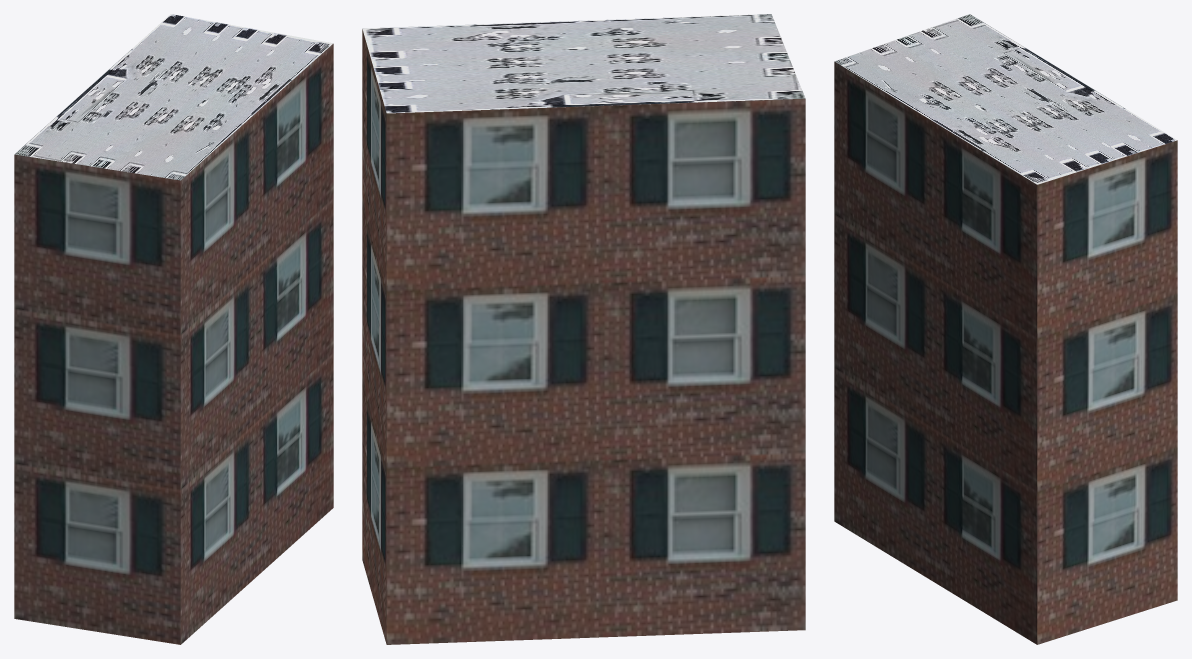
Rendered from ResTex__1453.fbx.
The picture shows the model from 3 angles, left to right: view 1: azimuth 30°, elevation 25°; view 2: azimuth 150°, elevation 25°; view 3: azimuth 270°, elevation 25°; orthographic projection. The views are drawn at different scales.
Parts seen in each view (by area): view 1: CityEngineMaterial_14_m, CityEngineMaterial_8_m; view 2: CityEngineMaterial_14_m, CityEngineMaterial_8_m; view 3: CityEngineMaterial_14_m, CityEngineMaterial_8_m.
Part boxes in pixels (bbox=[...]): CityEngineMaterial_14_m: bbox=[14, 44, 333, 644]; CityEngineMaterial_8_m: bbox=[14, 14, 333, 180]; CityEngineMaterial_14_m: bbox=[362, 29, 805, 644]; CityEngineMaterial_8_m: bbox=[362, 14, 805, 113]; CityEngineMaterial_14_m: bbox=[834, 61, 1177, 644]; CityEngineMaterial_8_m: bbox=[834, 14, 1176, 184].
Size of the model in its own units: 7.17 by 9 by 6.08.
2 materials, 2 textured.
